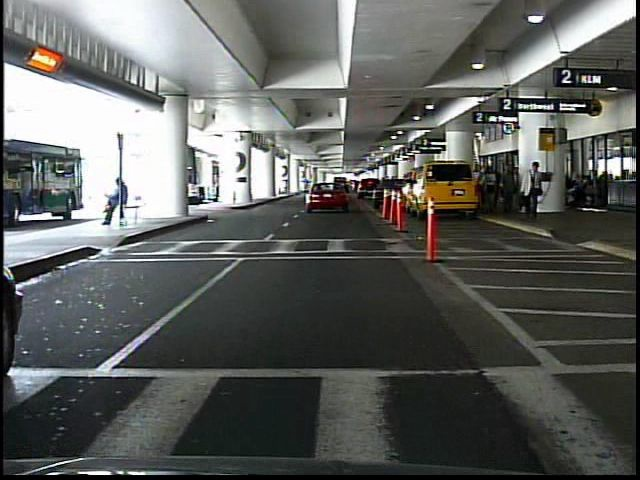person: (520, 159, 545, 217), (500, 163, 518, 219), (484, 166, 498, 211)
